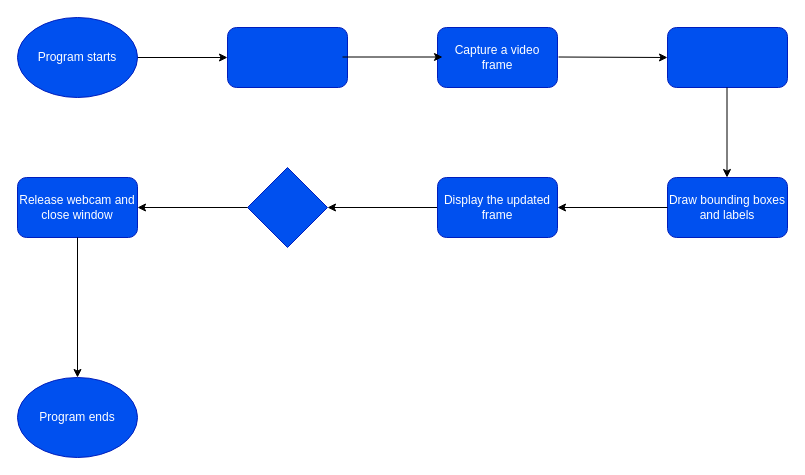
Some shapes in this 805 by 475 pixel diagram are drawn without their labels. The centre of each missing label's shape, as x and y in pixels:
Check if "q" is pressed: (287,207)
MediaPipe detects objects: (727,57)
OpenCV opens the webcam: (287,57)
